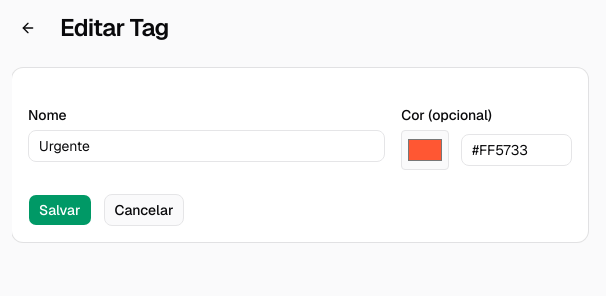
Test: EditarTagPage › exibe erro de api quando atualizacao falha
Expected: the field labelled "Nome" is shown, top-left (28, 130), bottom-right (385, 162)
Click the button "Salvar" at x=60, y=210, box top-left (28, 194), bottom-right (92, 226)
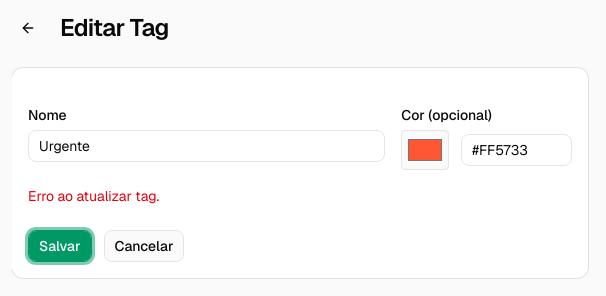
Now the text "Erro ao atualizar tag." is shown, box top-left (28, 187), bottom-right (159, 205)
